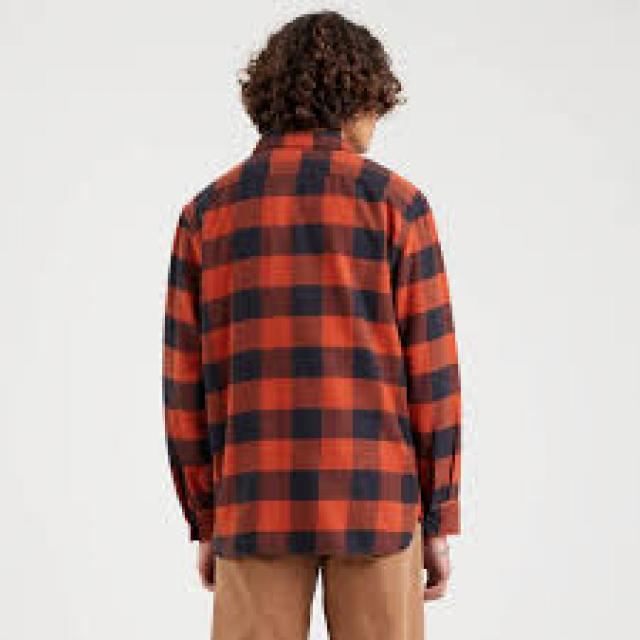plaid: (162, 129, 458, 570)
